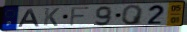2: (146, 4, 167, 26)
9: (95, 5, 114, 27)
A: (17, 8, 41, 28)
F: (69, 6, 91, 27)
K: (42, 7, 61, 27)
Q: (121, 4, 145, 26)
